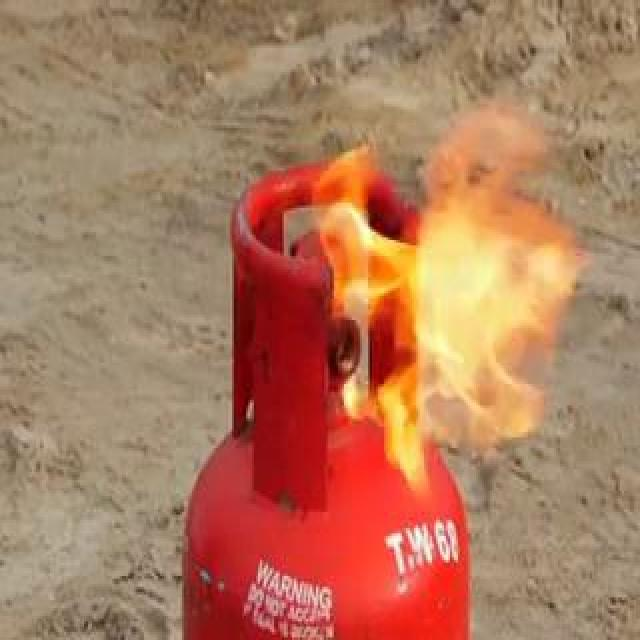Fire: (240, 77, 526, 480)
